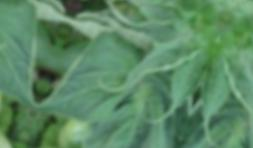Tomato leaf mosaic virus: (30, 15, 161, 148), (100, 12, 206, 116), (149, 22, 220, 132), (82, 0, 215, 41)
